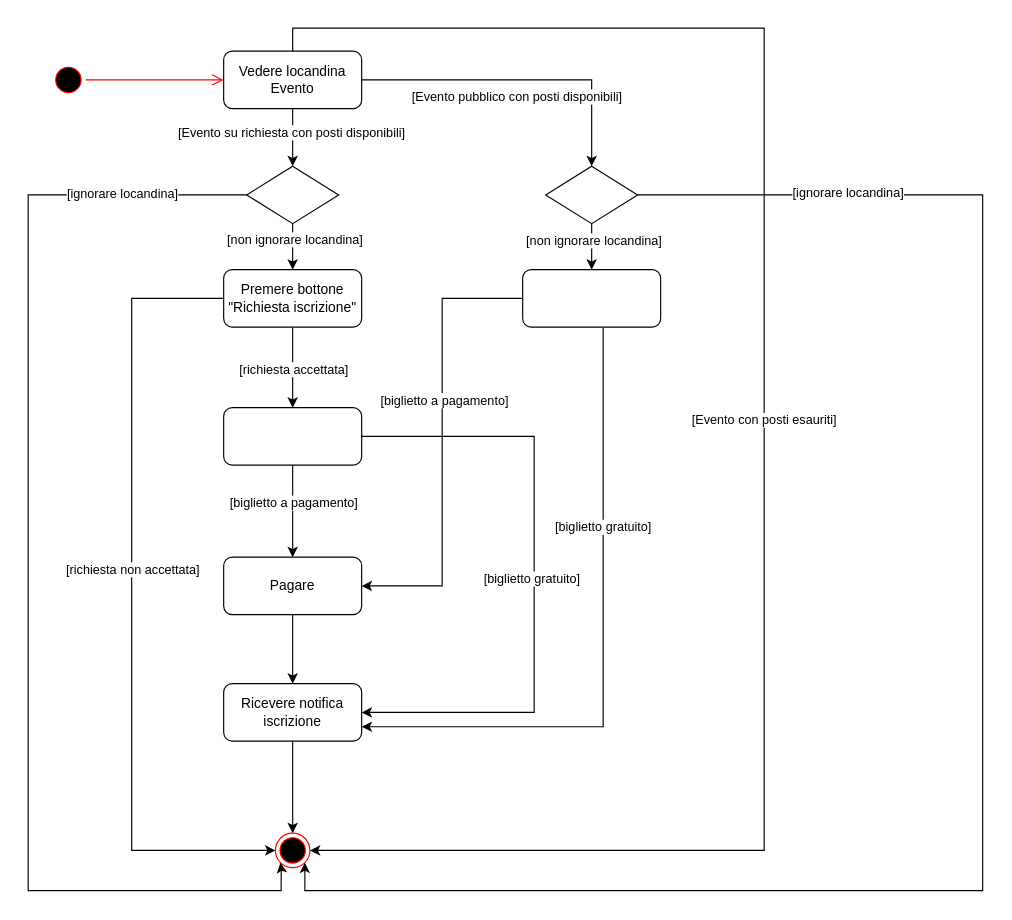
This 1012x920 diagram has some shape labels left out. Each missing label, with the box of its shape:
Confermare iscrizione: (223, 407, 362, 465)
Premere bottone "Iscriviti": (522, 269, 661, 327)
